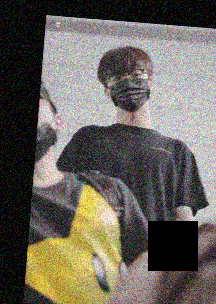with_mask: (107, 65, 151, 112)
